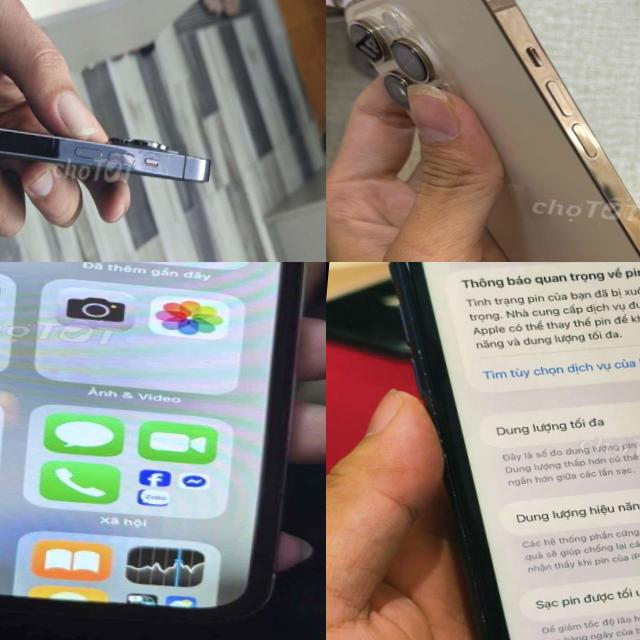gen_11: (326, 262, 640, 640)
gen_14: (326, 0, 640, 262), (0, 92, 241, 212)
gen_x_xs: (0, 262, 326, 638)
